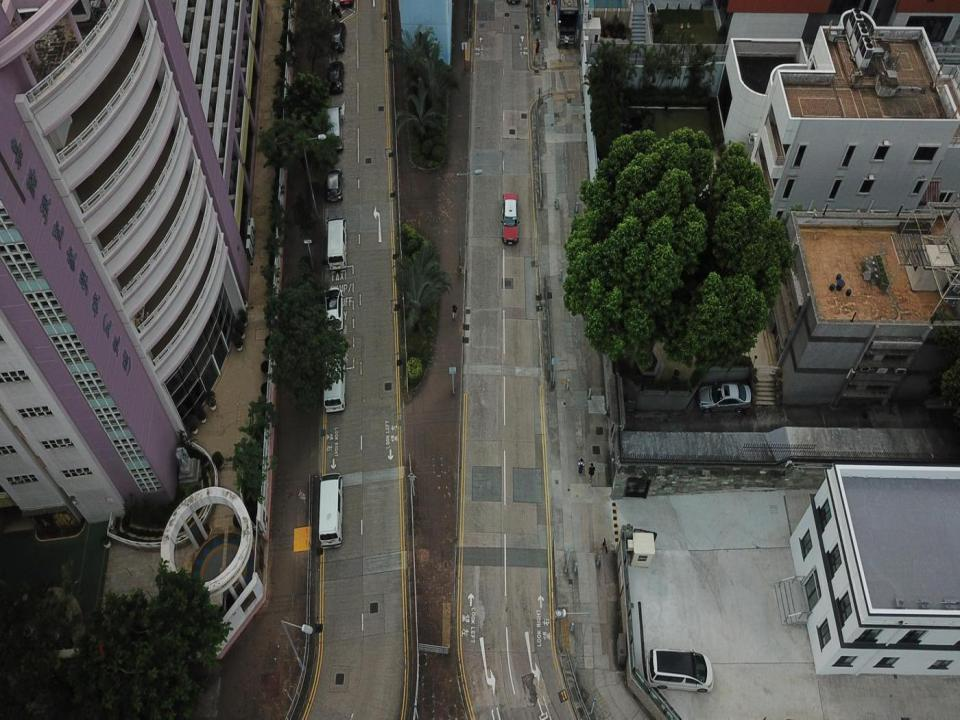car: (697, 382, 752, 412), (502, 193, 519, 246), (324, 285, 343, 329), (326, 60, 343, 94), (326, 168, 342, 200), (327, 23, 342, 53)
van: (646, 649, 712, 690), (318, 474, 342, 548), (322, 354, 346, 412), (326, 219, 349, 270), (321, 105, 343, 155)
